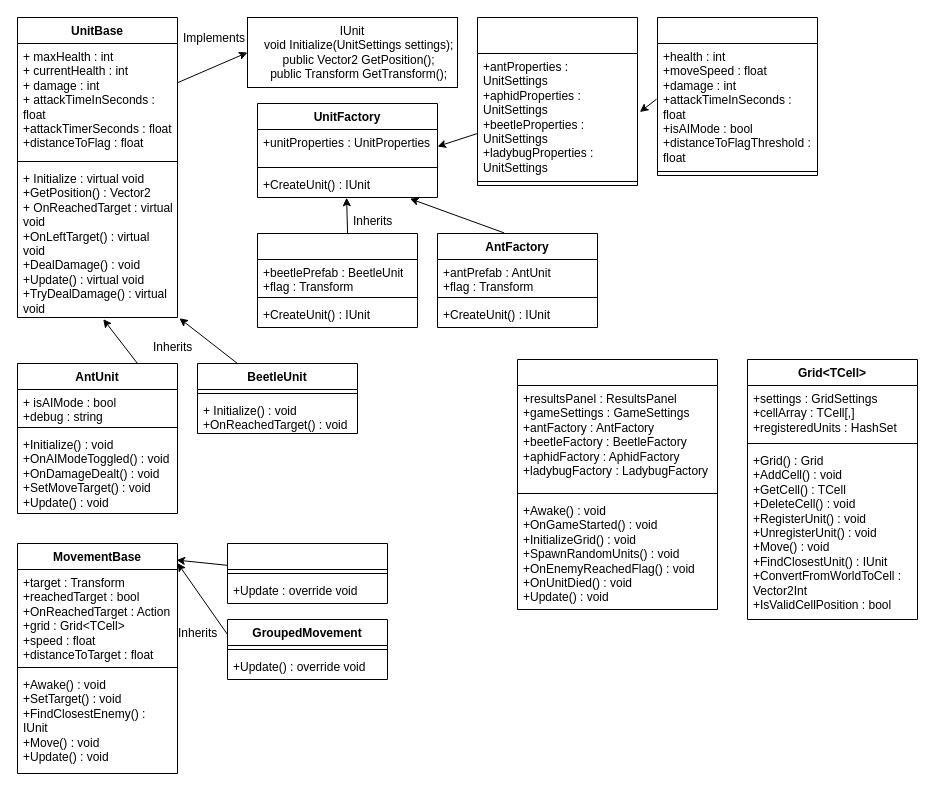
The diagram is 935 pixels wide and 794 high, and some of its shapes have lost their labels. The box of each missing label's shape, as (x1, y1, x2, y2) in pixels:
BeetleFactory: (256, 232, 418, 328)
GameController: (516, 358, 718, 610)
LinearMovement: (226, 542, 388, 604)
UnitProperties : ScriptableObject: (476, 16, 638, 186)
UnitSettings: (656, 16, 818, 176)
